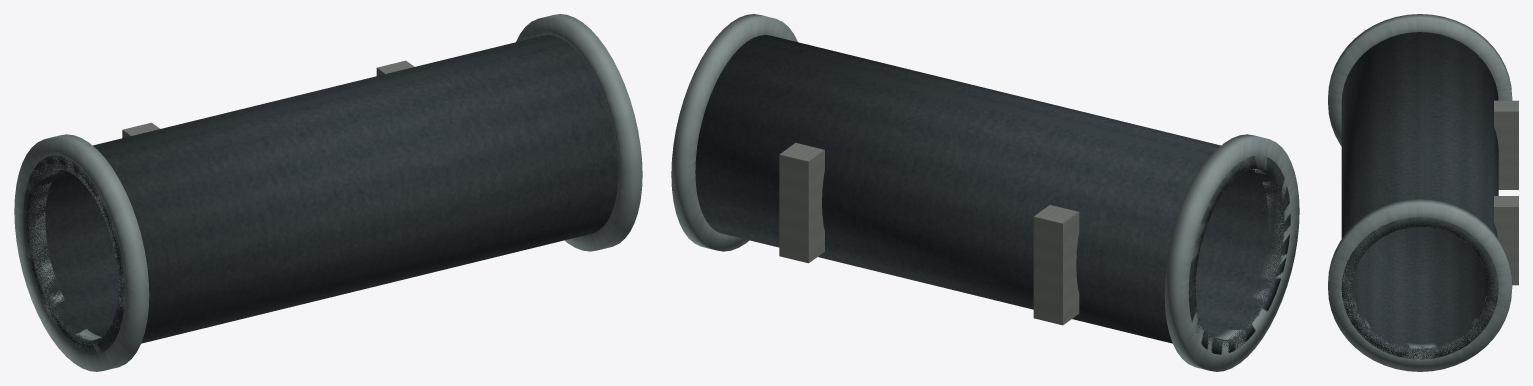
File: PZ_WWT_05_Pipe_DN1200_4m.glb
3 views of the same model, side by side, from view 1: azimuth 30°, elevation 25°; view 2: azimuth 150°, elevation 25°; view 3: azimuth 270°, elevation 25° (orthographic). The views are drawn at different scales.
Parts seen in each view (by area): view 1: PIP_DN1200_Hollow_Barrel, PIP_DN1200_EndFlange_0, PIP_DN1200_EndFlange_1; view 2: PIP_DN1200_Hollow_Barrel, PIP_DN1200_EndFlange_0, PIP_DN1200_EndFlange_1, PIP_DN1200_Support_1, PIP_DN1200_Support_3; view 3: PIP_DN1200_Hollow_Barrel, PIP_DN1200_EndFlange_1, PIP_DN1200_EndFlange_0, PIP_DN1200_Support_1, PIP_DN1200_Support_3.
Part boxes in pixels (bbox=[...]): PIP_DN1200_Hollow_Barrel: bbox=[23, 35, 618, 354]; PIP_DN1200_EndFlange_0: bbox=[14, 134, 149, 371]; PIP_DN1200_EndFlange_1: bbox=[516, 14, 642, 251]; PIP_DN1200_Hollow_Barrel: bbox=[695, 35, 1290, 354]; PIP_DN1200_EndFlange_0: bbox=[1164, 134, 1299, 371]; PIP_DN1200_EndFlange_1: bbox=[671, 14, 797, 251]; PIP_DN1200_Support_1: bbox=[1033, 205, 1079, 325]; PIP_DN1200_Support_3: bbox=[779, 143, 824, 263]; PIP_DN1200_Hollow_Barrel: bbox=[1341, 32, 1498, 359]; PIP_DN1200_EndFlange_1: bbox=[1328, 199, 1512, 371]; PIP_DN1200_EndFlange_0: bbox=[1328, 14, 1512, 146]; PIP_DN1200_Support_1: bbox=[1494, 100, 1518, 189]; PIP_DN1200_Support_3: bbox=[1494, 196, 1518, 285].
Size of the model in its own units: 4 by 1.63 by 1.69.
Materials: 1 (1 with a texture image).
